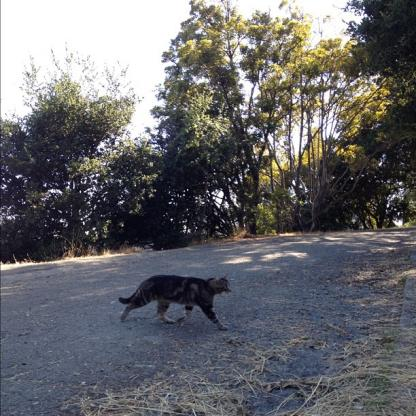Target: (119, 272, 234, 330)
